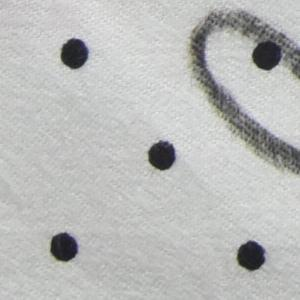Stain: (186, 7, 300, 178)
